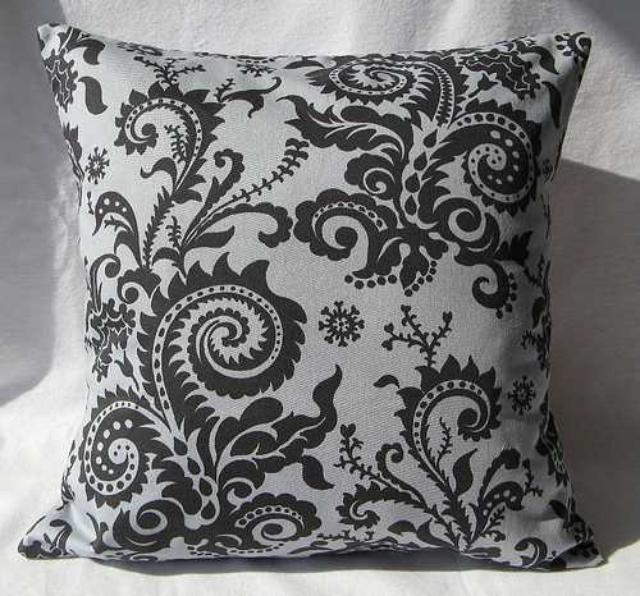pillow: (17, 21, 605, 572)
